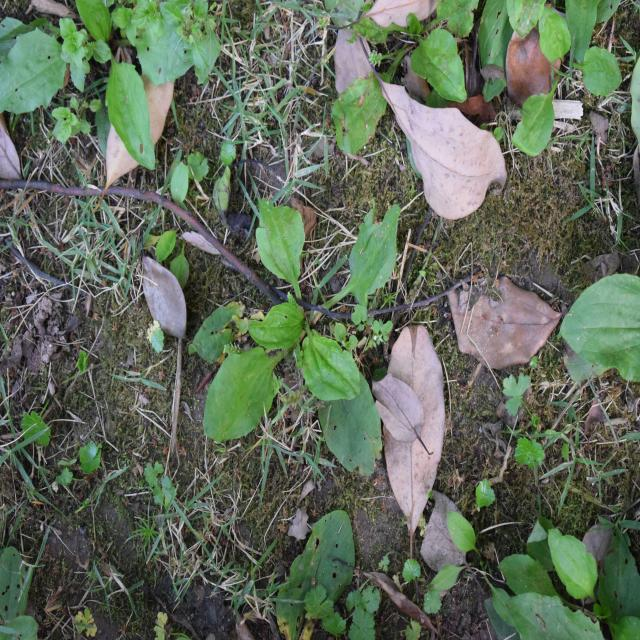plantain: (227, 220, 395, 497)
